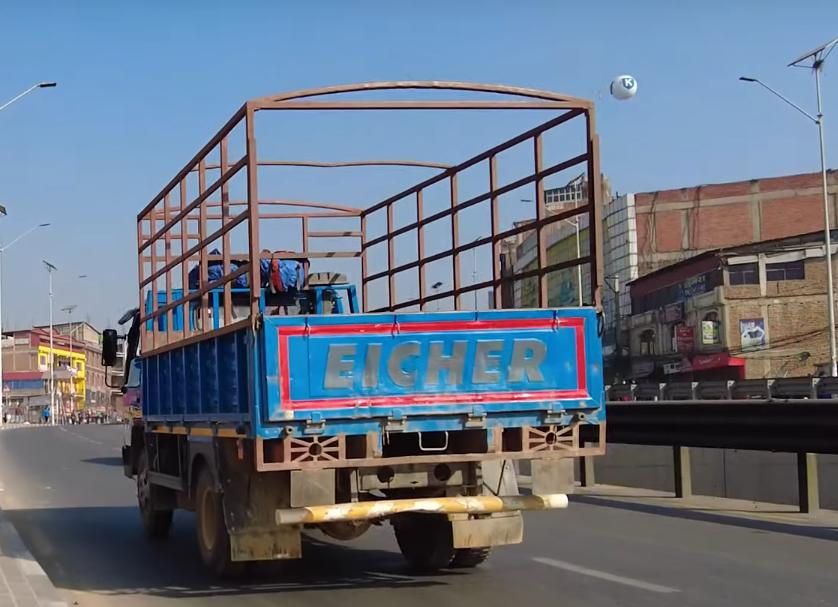mini_truck: (100, 73, 614, 590)
